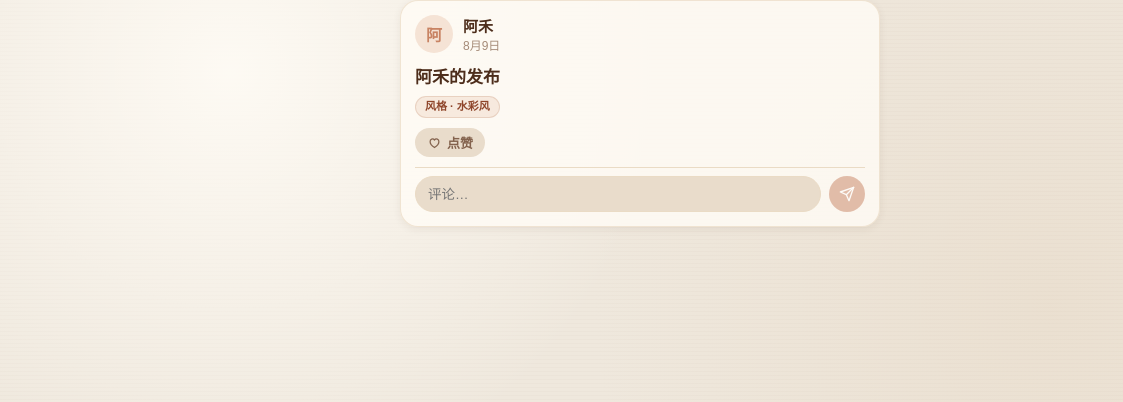
Test: PostCard viewer perspective › like toggles optimistically and rolls back on failure
The width and height of the screenshot is (1123, 402).
Click the button "点赞": (450, 142) [415,128,485,157]
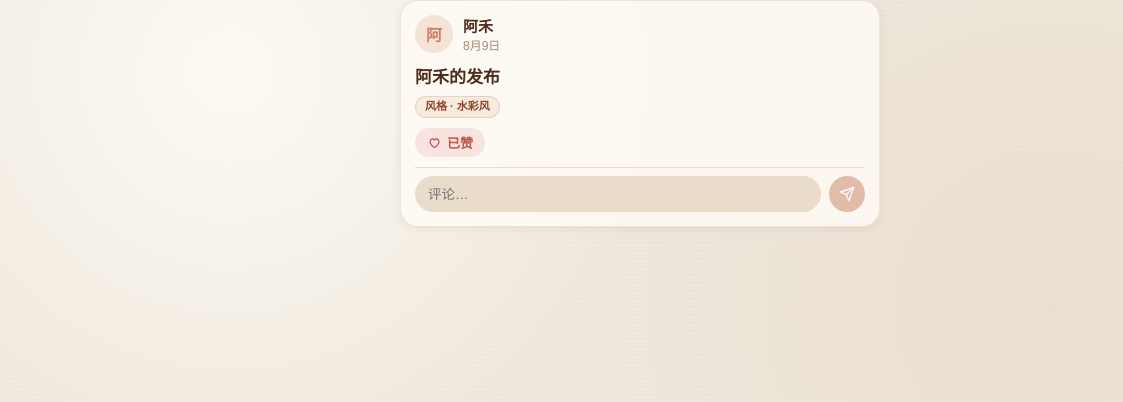
Expected: the button with aria-label "取消赞" is shown
Click the button with aria-label "取消赞": (450, 142) [415,128,485,157]
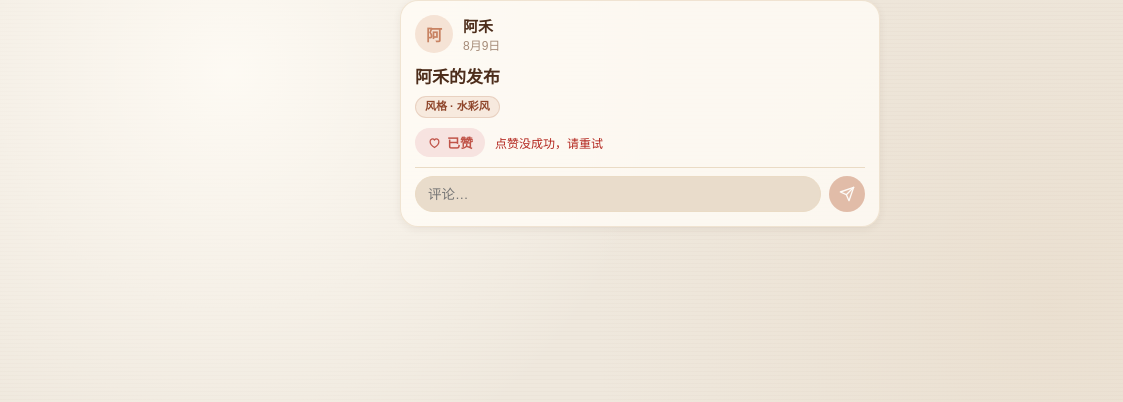
Expected: the button with aria-label "取消赞" is shown, [415,128,485,157]
Expected: the message reads "点赞没成功，请重试", [495,137,603,151]
